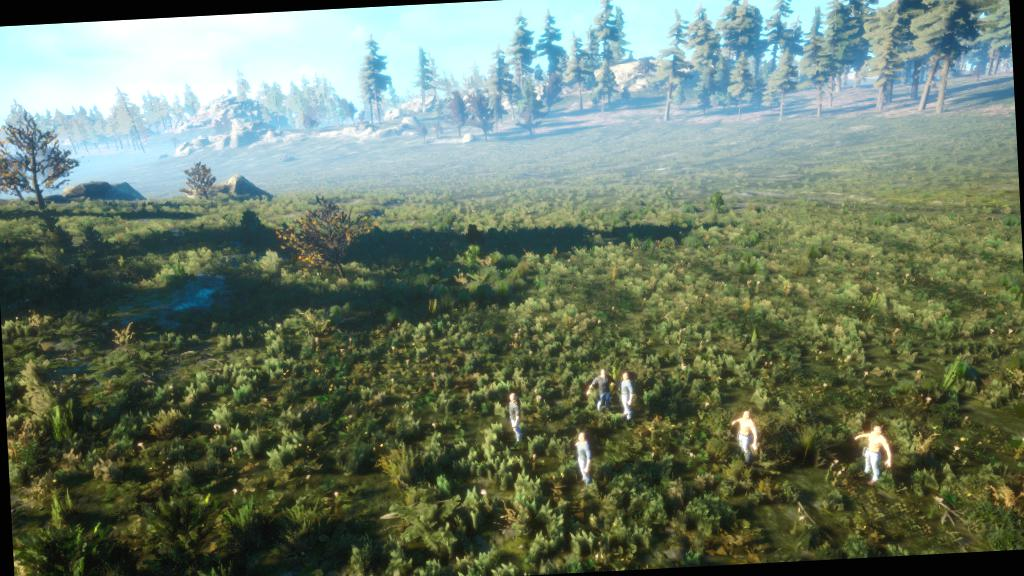human: (576, 351, 650, 431), (714, 392, 776, 475), (853, 409, 905, 496), (562, 422, 604, 490), (499, 382, 532, 448)
